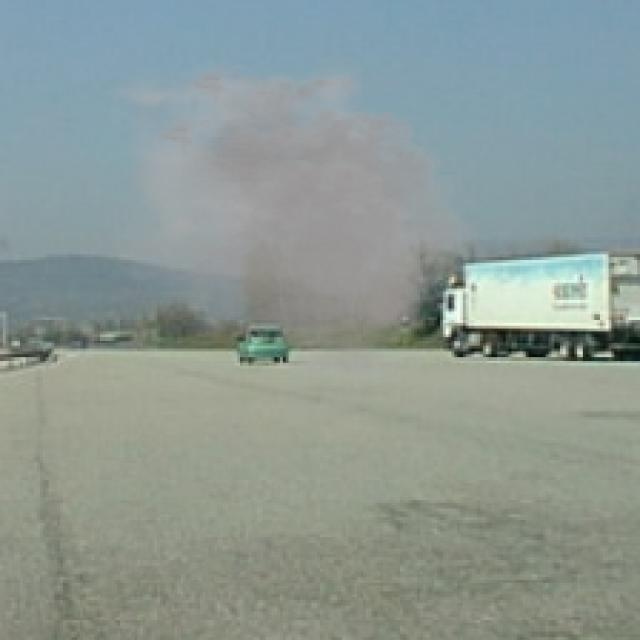smoke: (94, 49, 489, 392)
